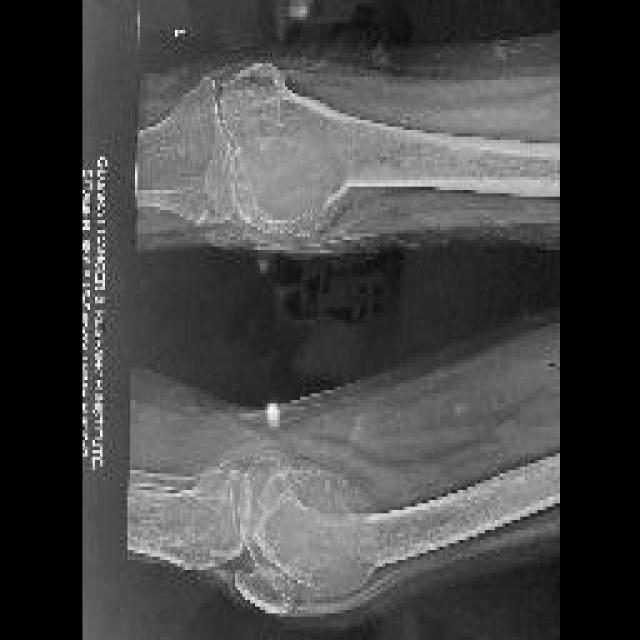bone-cancer: (264, 472, 377, 597), (245, 107, 353, 233)
